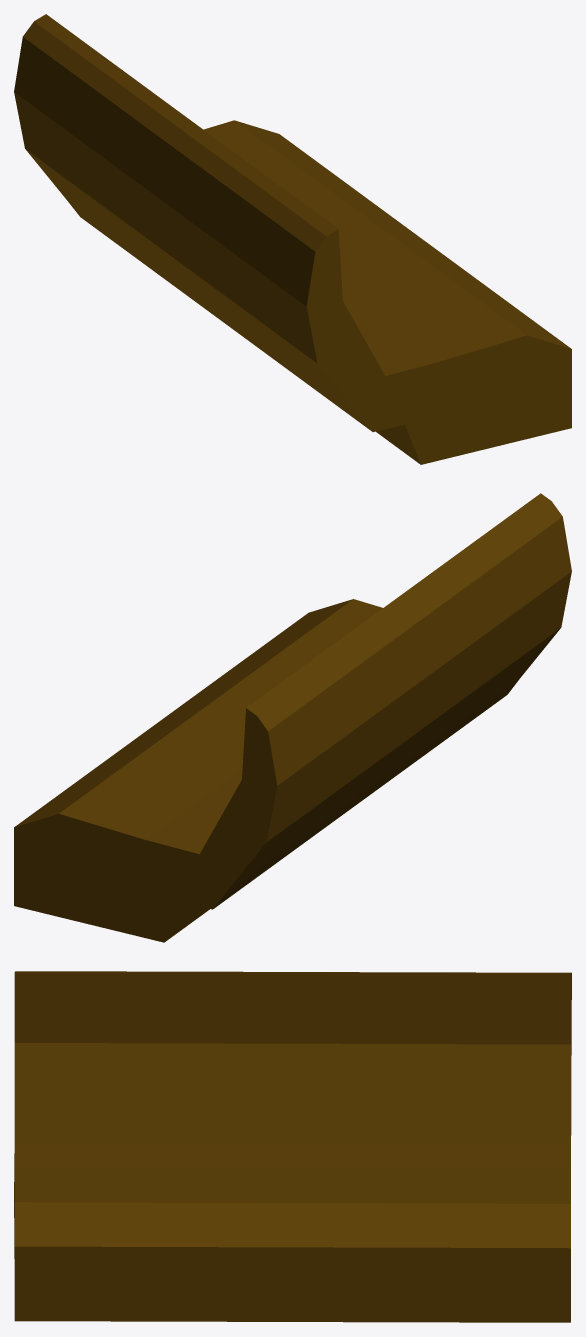
The model's file is bench.fbx.
The picture shows the model from 3 angles, top to bottom: view 1: azimuth 30°, elevation 25°; view 2: azimuth 150°, elevation 25°; view 3: azimuth 270°, elevation 25°; orthographic projection. The views are drawn at different scales.
Visible parts, largest first — view 1: Plane; view 2: Plane; view 3: Plane.
Boxes of the visible parts, x1,y1,x2,y2 form: Plane: (14, 14, 571, 464); Plane: (14, 493, 571, 942); Plane: (14, 971, 571, 1322).
Bounding box in the file's own units: 177 × 162 × 339.
